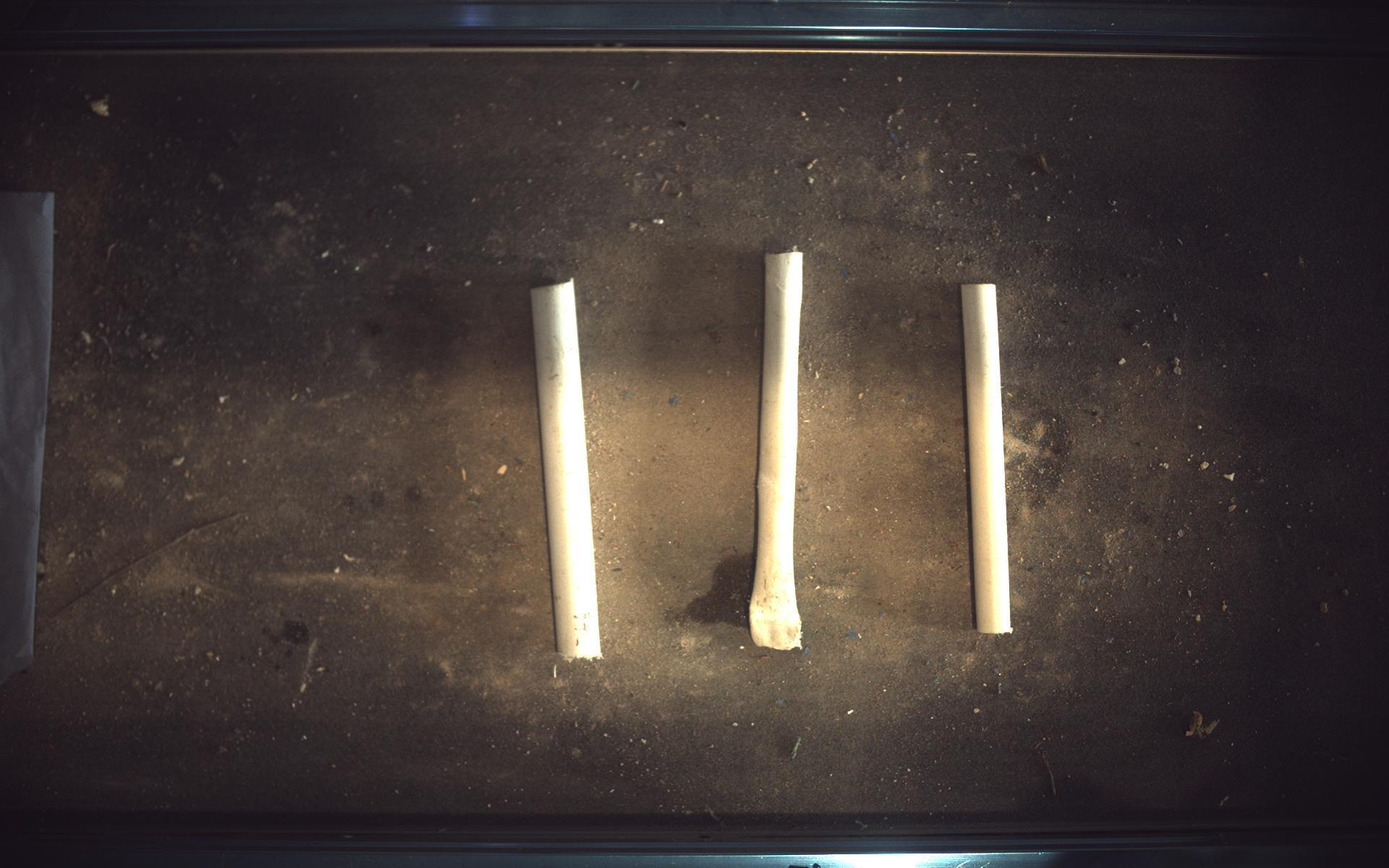pipes: (531, 278, 603, 660), (749, 250, 804, 651), (963, 284, 1014, 634)
